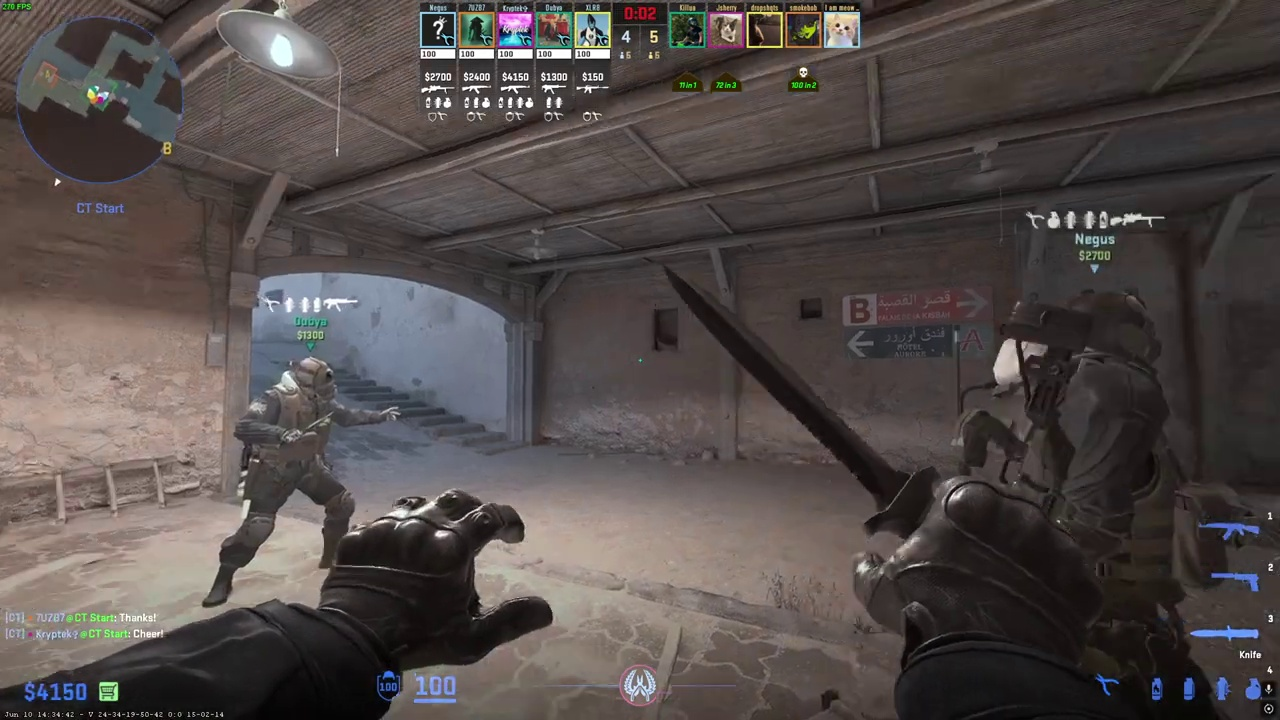CT: (981, 293, 1196, 686), (213, 357, 362, 607)
